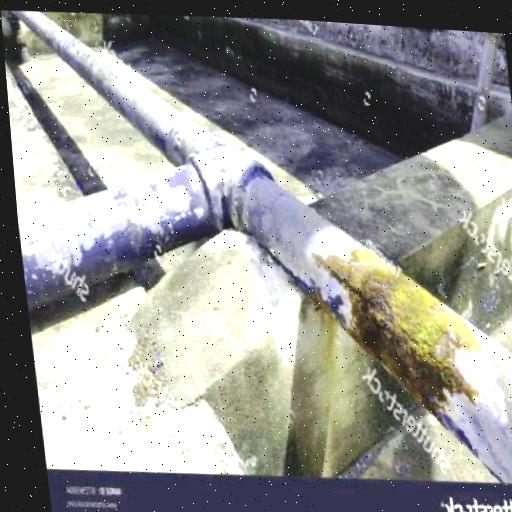corrosion: (309, 239, 488, 425)
